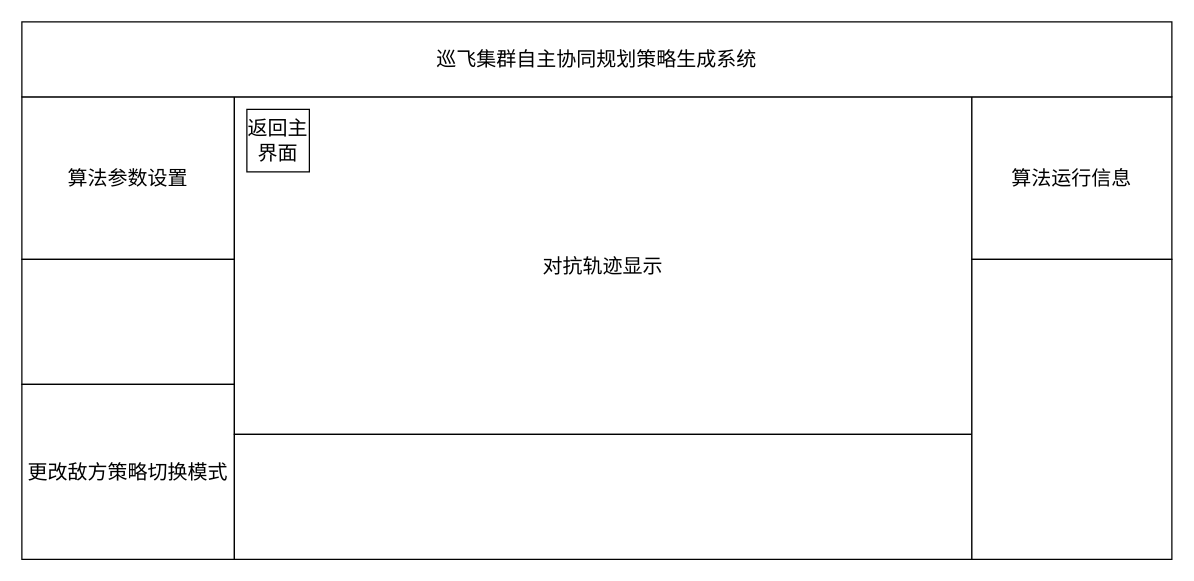
Image size: 1194x581. Some labels were removed from this diagram. The shapes that lost their labels are listed below. From the top down, each one's centre as x and y in pixels, then its label:
the point at 127,321: 敌我策略列表
the point at 1071,408: 其余图标信息
the point at 602,496: 运行日志输出
